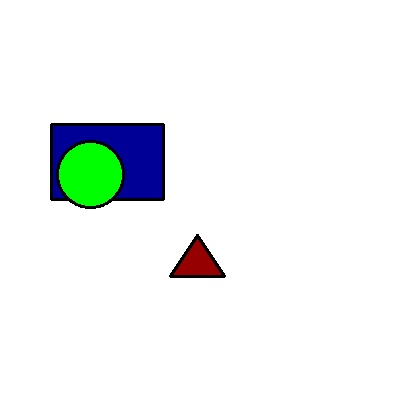circle: (57, 123, 124, 225)
rectangle: (51, 124, 163, 199)
triangle: (170, 235, 224, 276)
